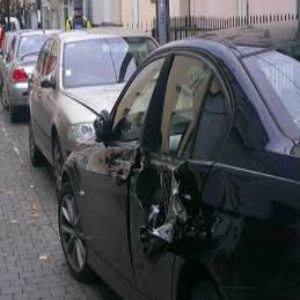door: (105, 164, 235, 251)
